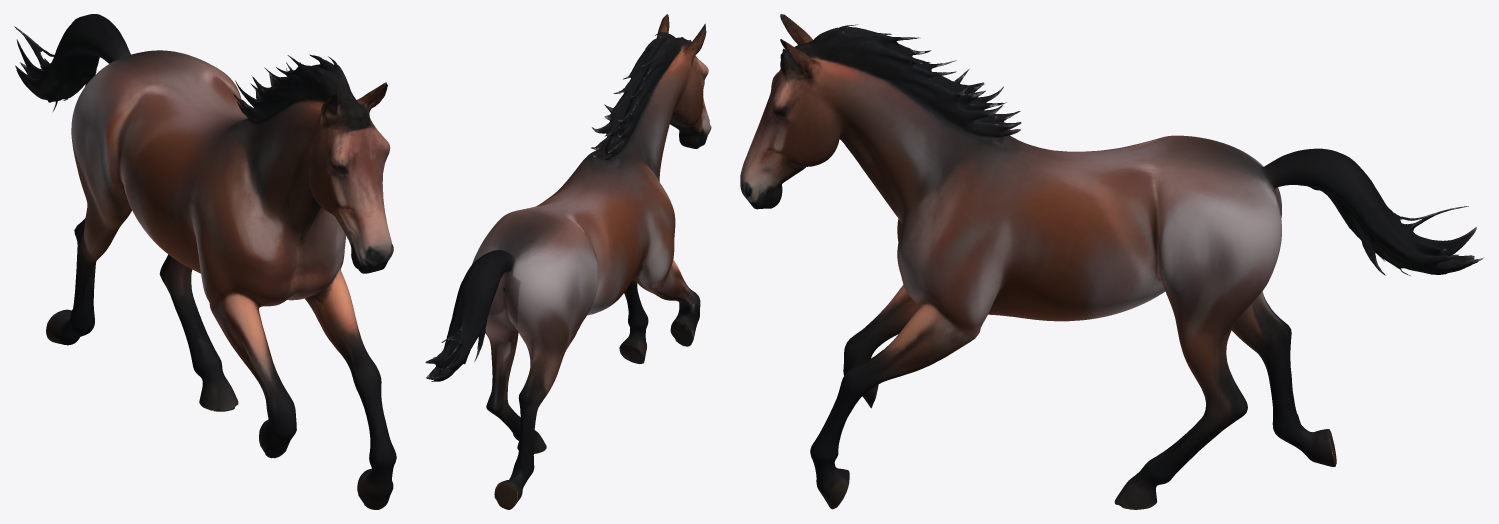
Rendered from horse_trotting.glb.
3 views of the same model, side by side, from view 1: azimuth 30°, elevation 25°; view 2: azimuth 150°, elevation 25°; view 3: azimuth 270°, elevation 25° (orthographic). The views are drawn at different scales.
Parts seen in each view (by area): view 1: model; view 2: model; view 3: model.
Boxes of the visible parts, box(x1,y1,x2,y2) form: model: box(14, 14, 396, 509); model: box(425, 14, 711, 509); model: box(740, 14, 1484, 509).
Bounding box in the file's own units: 0.4241 × 1.3 × 1.89.
1 material, 1 textured.
